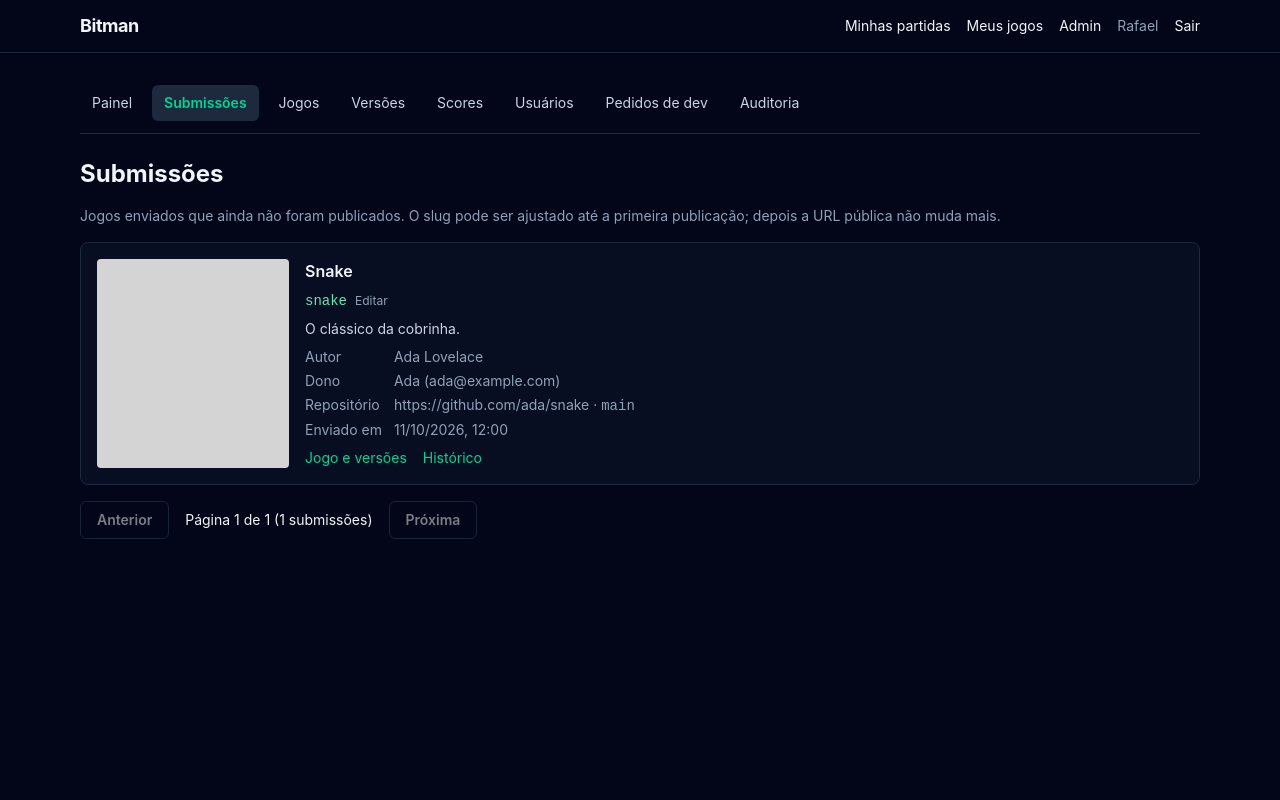
it: SubmissionsPage › mostra a regra recusada pelo servidor ao editar o slug
Click the button with aria-label "Editar slug de Snake": (371, 301) top-left (355, 293), bottom-right (388, 309)
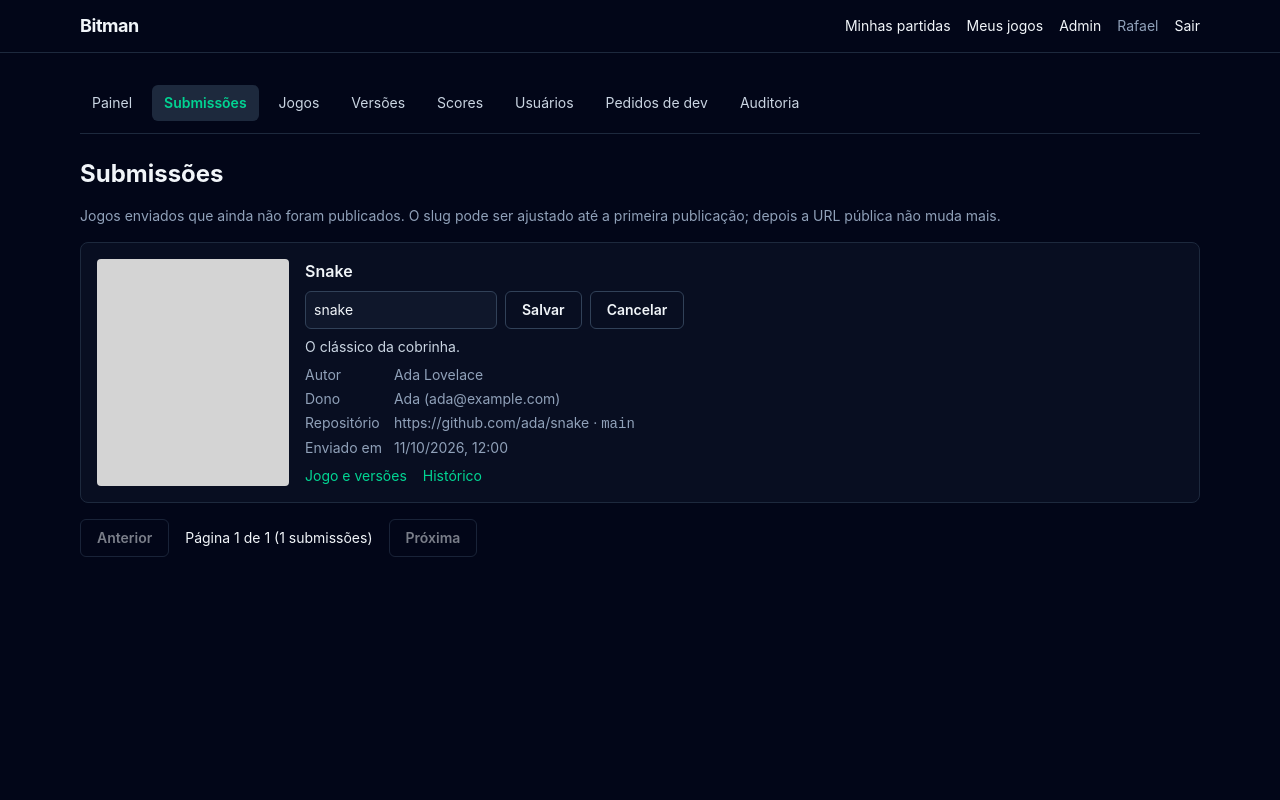
Click the button "Salvar": (543, 310) top-left (505, 291), bottom-right (582, 329)
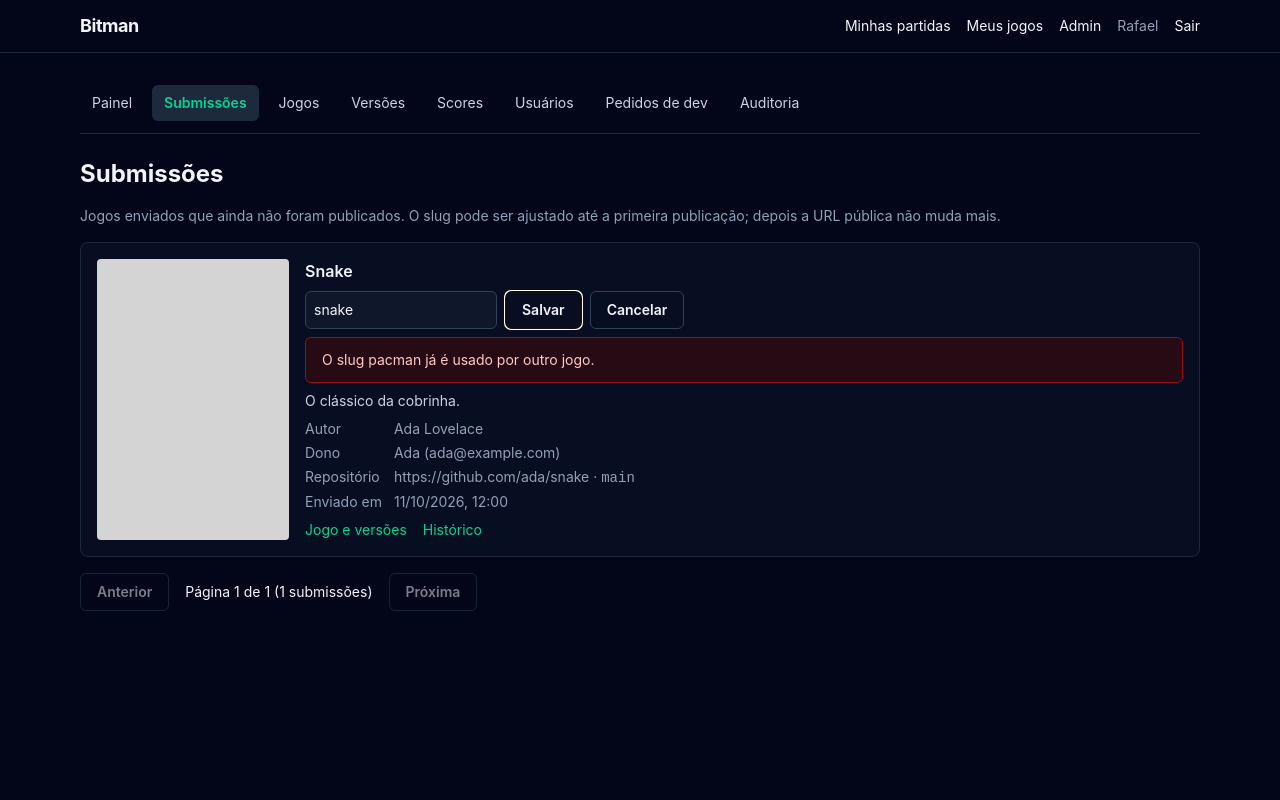
Now the message reads "O slug pacman já é usado por outro jogo.", box top-left (322, 351), bottom-right (594, 368)
